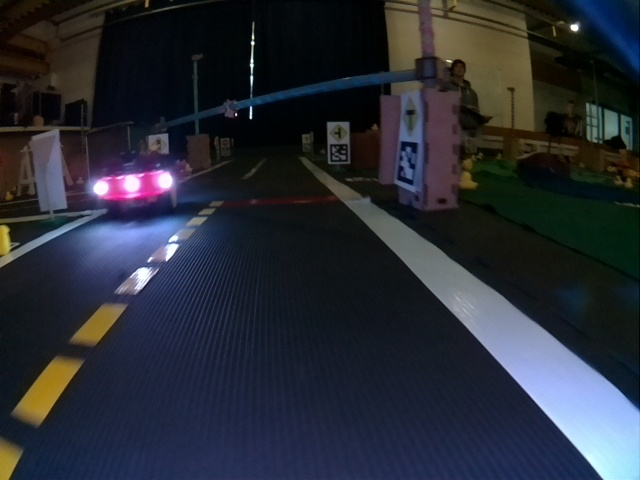Duckie: (460, 172, 475, 188)
Duckiebot: (94, 156, 180, 213)
Intersection sign: (399, 96, 421, 138), (328, 122, 346, 142)
QR code: (394, 141, 420, 187), (328, 144, 350, 164)
Signal sign: (149, 134, 168, 154)
